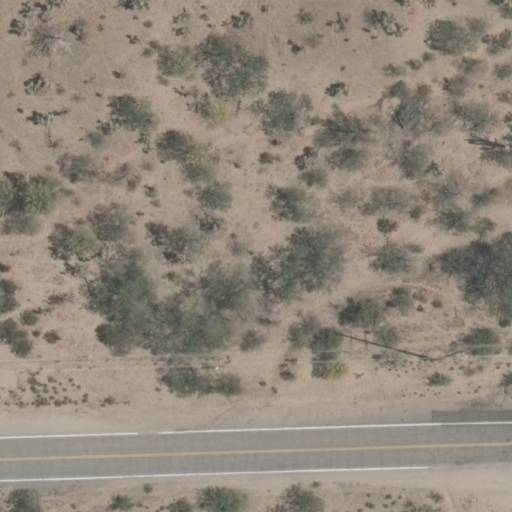DT: (426, 344, 472, 361)
